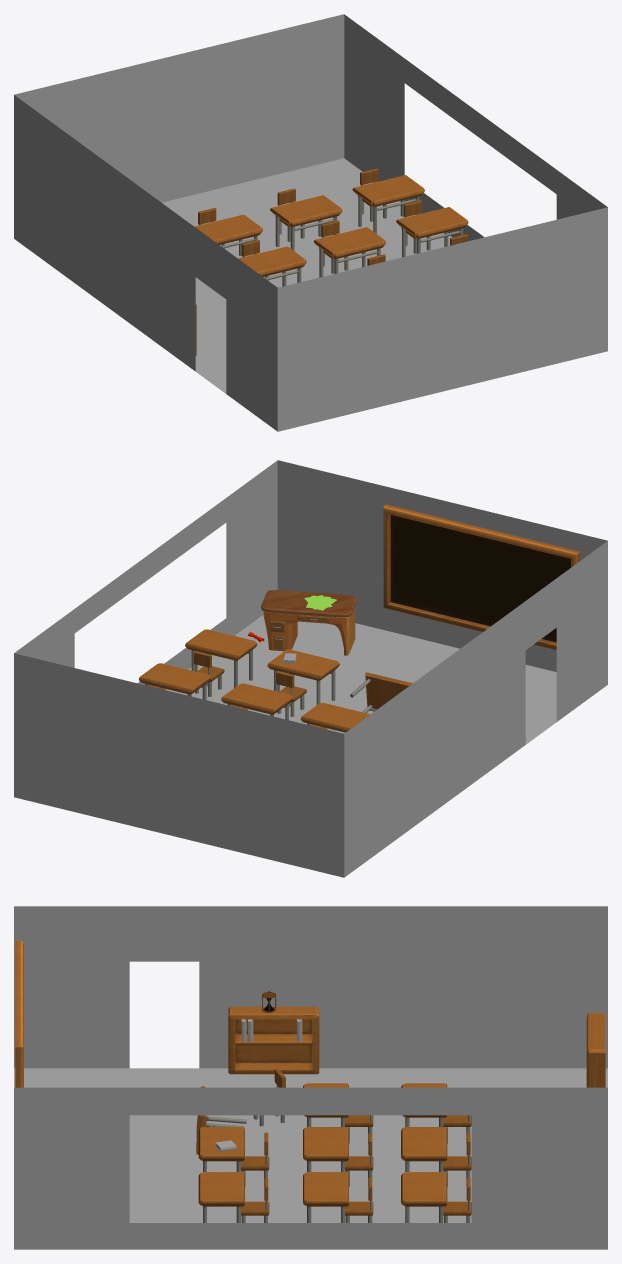
File: ClassroomLite.fbx
The picture shows the model from 3 angles, top to bottom: view 1: azimuth 30°, elevation 25°; view 2: azimuth 150°, elevation 25°; view 3: azimuth 270°, elevation 25°; orthographic projection. The views are drawn at different scales.
Parts seen in each view (by area): view 1: Floor_Walls1, Student_Desk11, Student_Desk12, Student_Desk7, Student_Desk8, Student_Desk6, Student_Desk10; view 2: Floor_Walls1, ChalkBoard1, polySurface3, Student_Desk1, Student_Desk2, Student_Desk8, Student_Desk7, Student_Desk6, Student_Desk3, Student_Chair2, Student_Chair1; view 3: Floor_Walls1, BookShelfSmall3, Student_Desk12, Student_Desk1, Student_Desk8, Student_Desk11, Student_Desk7, Student_Desk2, BookShelfSmall2, ChalkBoard1, Student_Chair8, Student_Chair7 (+5 smaller).
Part boxes in pixels (box(x1,y1,x2,y2)): Floor_Walls1: box(14, 14, 607, 431); Student_Desk11: box(270, 195, 342, 250); Student_Desk12: box(352, 175, 424, 233); Student_Desk7: box(313, 227, 385, 277); Student_Desk8: box(396, 207, 468, 257); Student_Desk6: box(238, 246, 306, 286); Student_Desk10: box(194, 214, 262, 255); Floor_Walls1: box(14, 460, 607, 877); ChalkBoard1: box(383, 504, 580, 649); polySurface3: box(261, 590, 357, 655); Student_Desk1: box(185, 629, 257, 687); Student_Desk2: box(267, 649, 339, 704); Student_Desk8: box(138, 663, 210, 699); Student_Desk7: box(221, 683, 293, 720); Student_Desk6: box(300, 702, 370, 732); Student_Desk3: box(350, 672, 412, 712); Student_Chair2: box(276, 671, 306, 716); Student_Chair1: box(193, 651, 224, 696); Floor_Walls1: box(14, 906, 607, 1249); BookShelfSmall3: box(228, 1006, 319, 1074); Student_Desk12: box(401, 1172, 447, 1222); Student_Desk1: box(198, 1172, 244, 1222); Student_Desk8: box(303, 1172, 348, 1222); Student_Desk11: box(401, 1127, 447, 1171); Student_Desk7: box(303, 1127, 348, 1171); Student_Desk2: box(198, 1127, 244, 1171); BookShelfSmall2: box(586, 1013, 605, 1087); ChalkBoard1: box(15, 940, 23, 1087); Student_Chair8: box(345, 1177, 373, 1222); Student_Chair7: box(345, 1132, 373, 1187).
Bounding box in the file's own units: 100 × 42.27 × 138.
